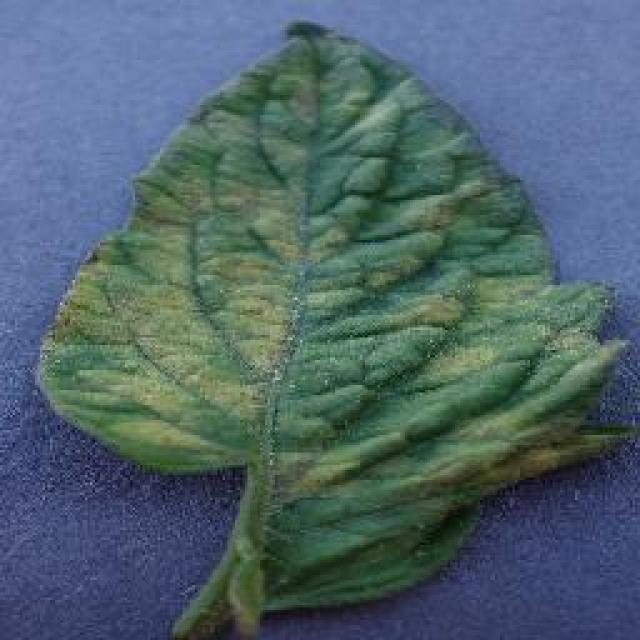Tomato mold leaf: (42, 20, 632, 640)
